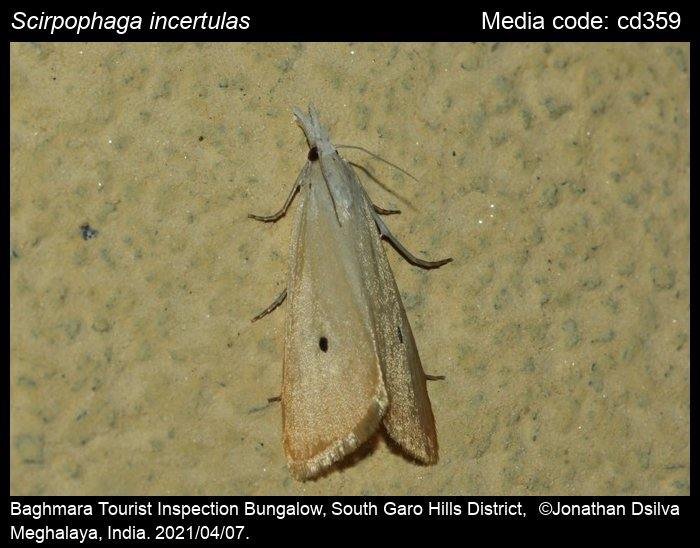Crambidae: (252, 99, 456, 488)
